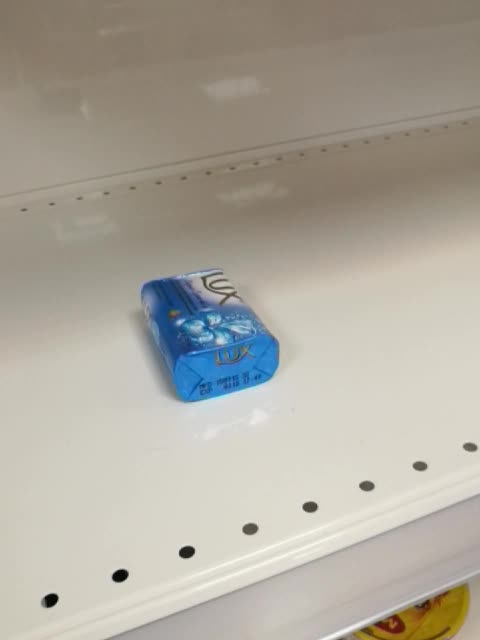soap: (138, 266, 282, 405)
